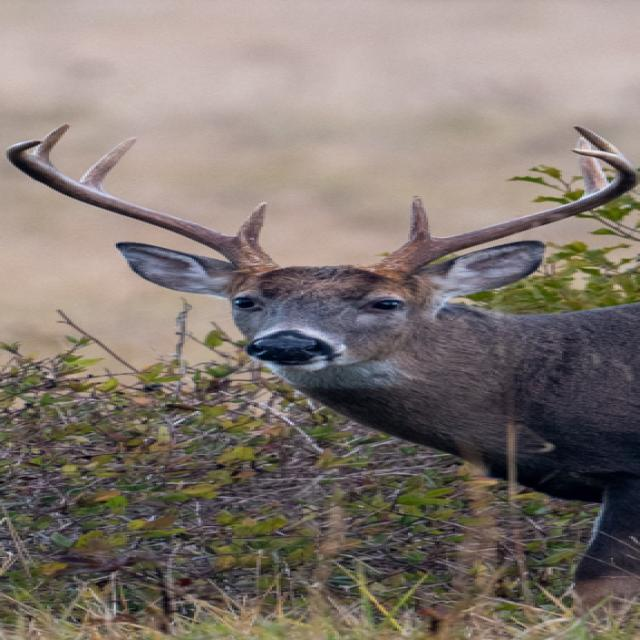L-F: (353, 148, 639, 281)
L-G1: (407, 195, 435, 243)
L-G3: (571, 124, 626, 157)
R-F: (5, 138, 281, 274)
R-G1: (234, 200, 271, 244)
R-G2: (78, 136, 139, 192)
R-G3: (29, 123, 71, 169)
